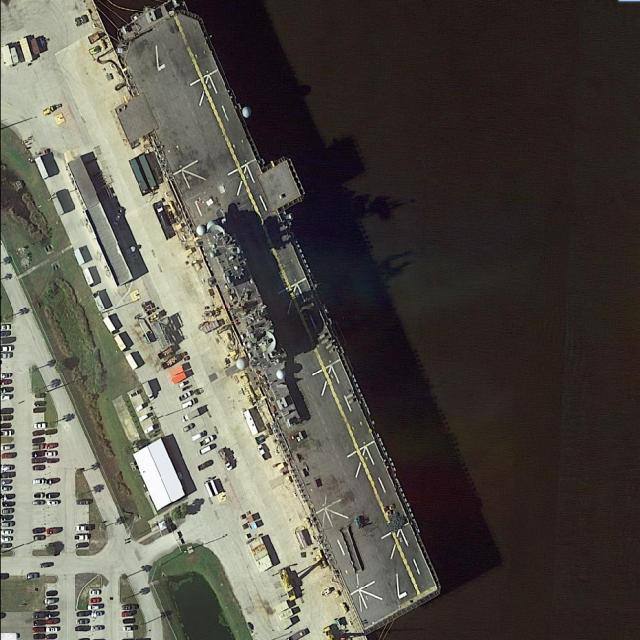Landing: (103, 1, 442, 631)
